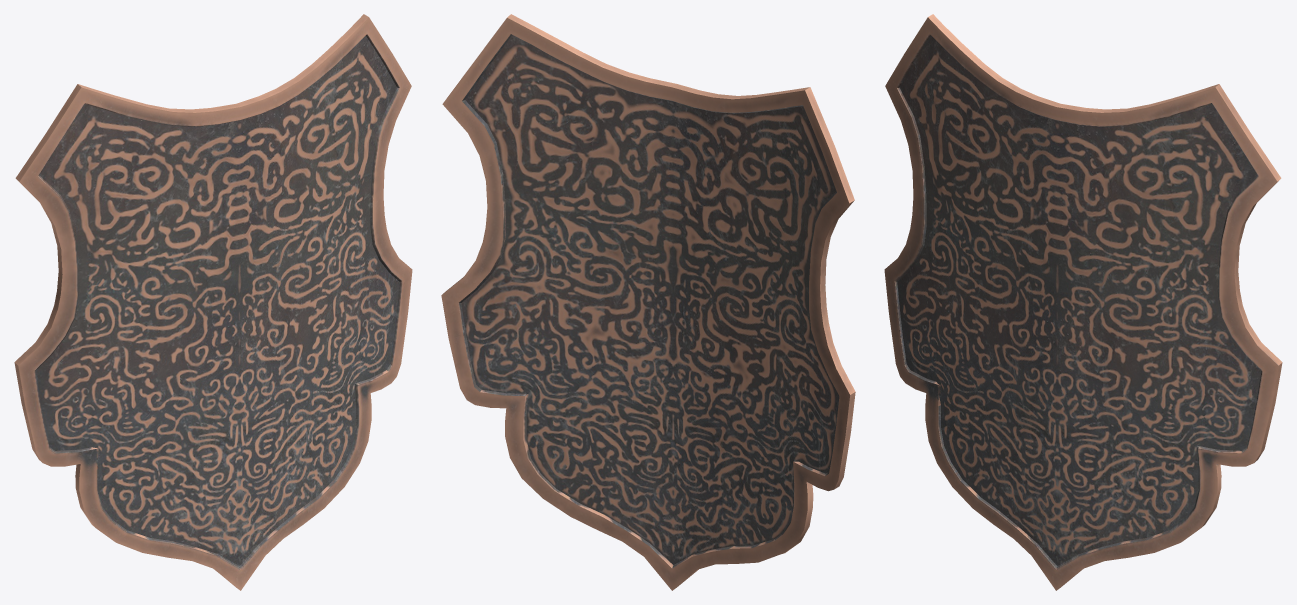
File: shield.glb
3 views of the same model, side by side, from view 1: azimuth 30°, elevation 25°; view 2: azimuth 150°, elevation 25°; view 3: azimuth 330°, elevation 25° (orthographic). The views are drawn at different scales.
Parts seen in each view (by area): view 1: NurbsPath.005; view 2: NurbsPath.005; view 3: NurbsPath.005.
Boxes of the visible parts, <box> form: NurbsPath.005: <box>14,14,412,590</box>; NurbsPath.005: <box>441,14,855,590</box>; NurbsPath.005: <box>884,14,1282,590</box>.
Bounding box in the file's own units: 1.56 × 2 × 0.2059.
Materials: 1 (1 with a texture image).
